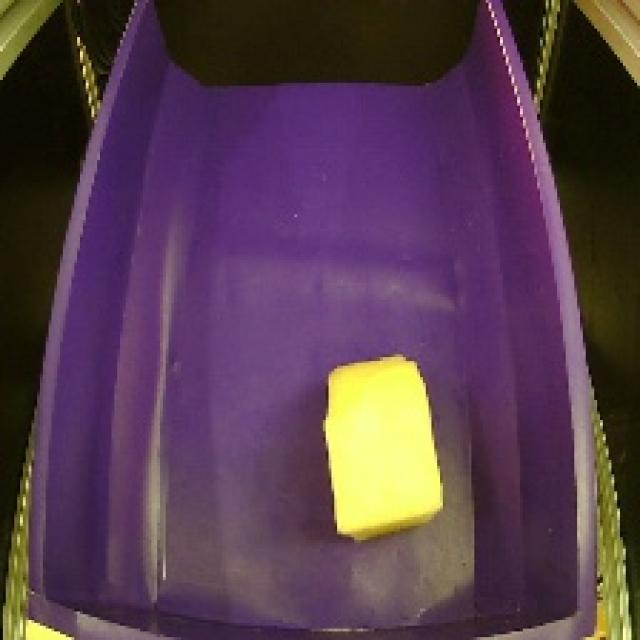potato: (301, 336, 458, 556)
